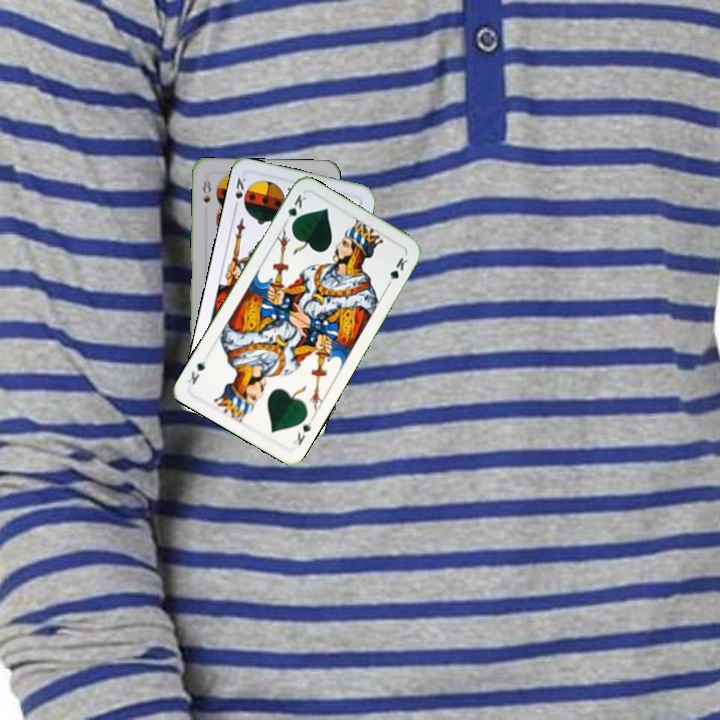GK: (280, 190, 309, 229), (289, 414, 316, 448)
S8: (199, 175, 214, 205)
SK: (230, 173, 251, 212)
